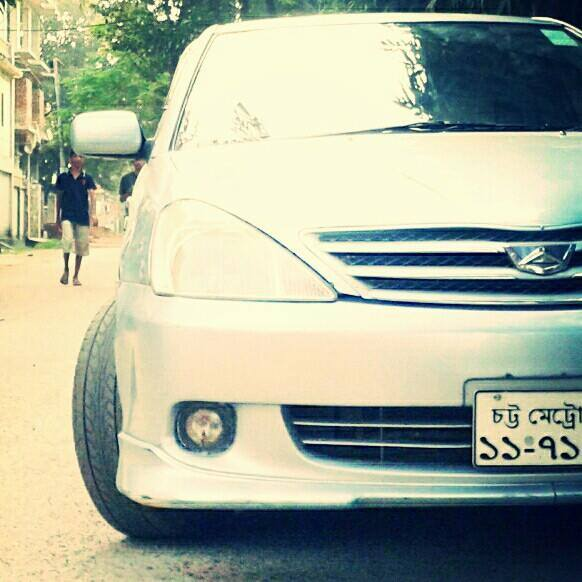registration_plate: (470, 388, 582, 469)
